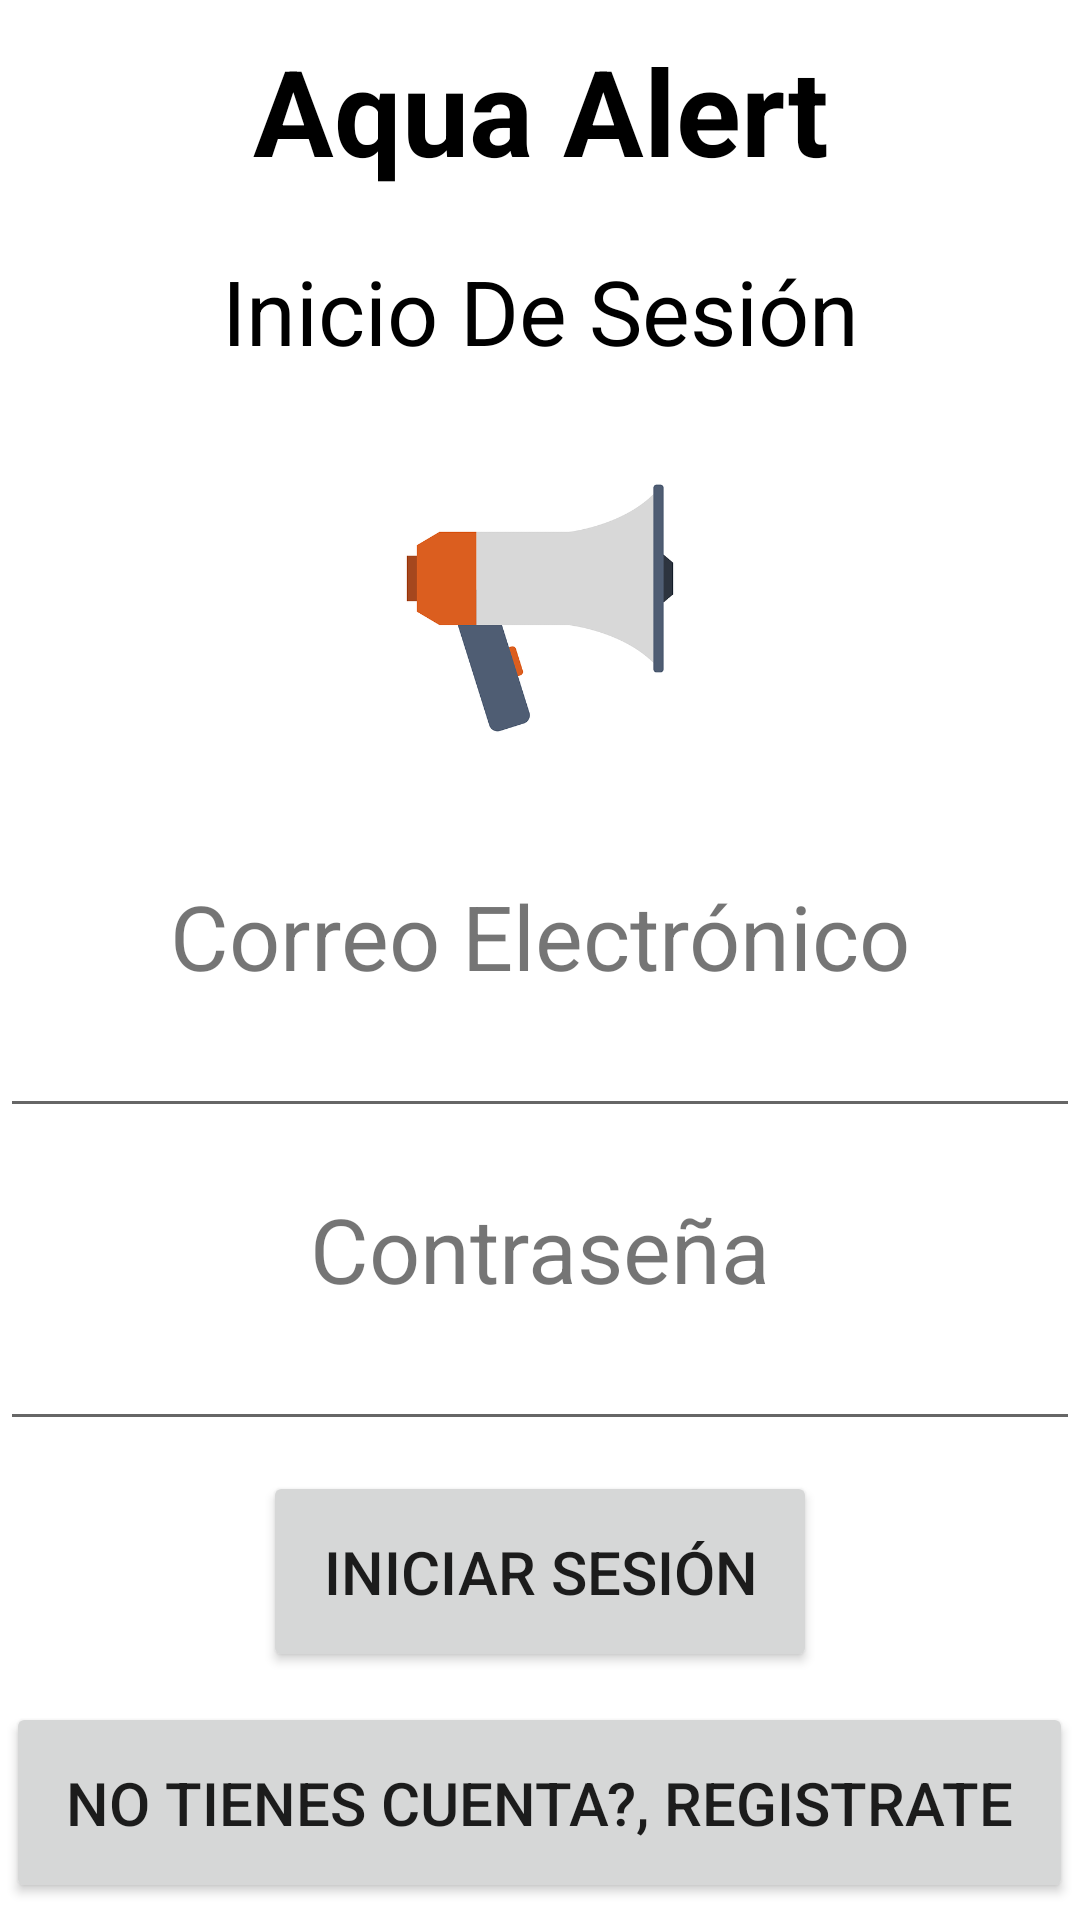

Locate icon controls on the screen. Image size 1080px×1920px, boxes as (x1,y1,x2,y2).
alerta: (406,484,674,732)
